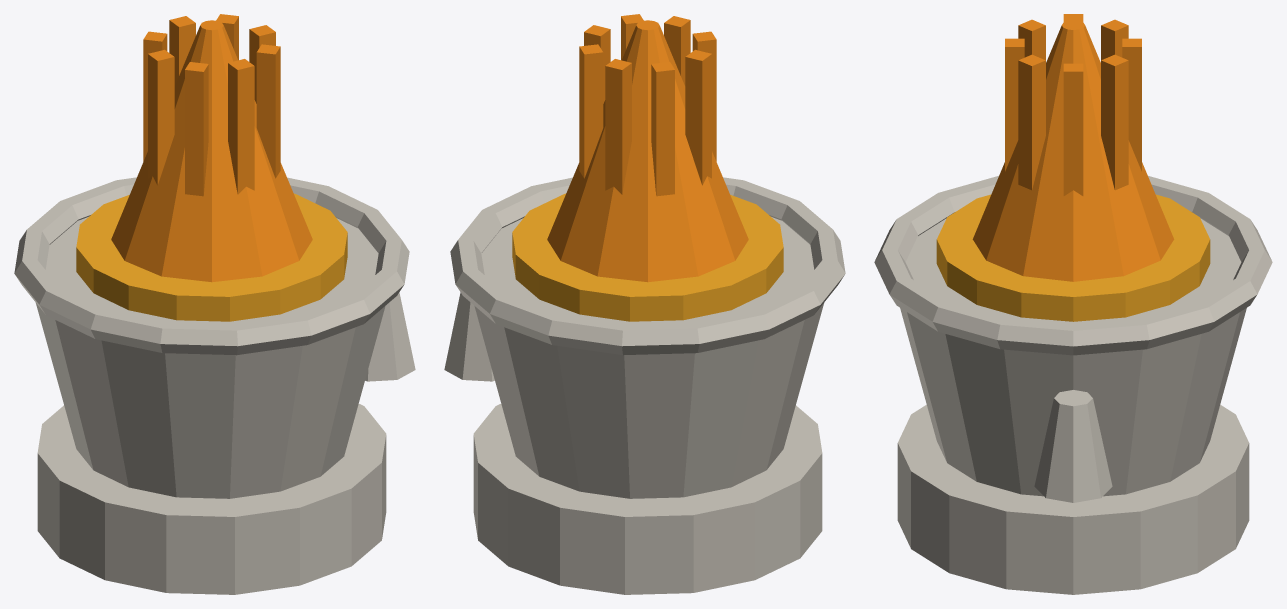
Rendered from juicer.glb.
3 renders of one model, left to right at view 1: azimuth 30°, elevation 25°; view 2: azimuth 150°, elevation 25°; view 3: azimuth 270°, elevation 25°, orthographic.
Parts seen in each view (by area): view 1: juicer; view 2: juicer; view 3: juicer.
Part boxes in pixels (x1,y1,x2,y2): juicer: (14,14,415,594); juicer: (444,14,845,594); juicer: (874,14,1272,594).
Size of the model in its own units: 0.22 by 0.28 by 0.204.
